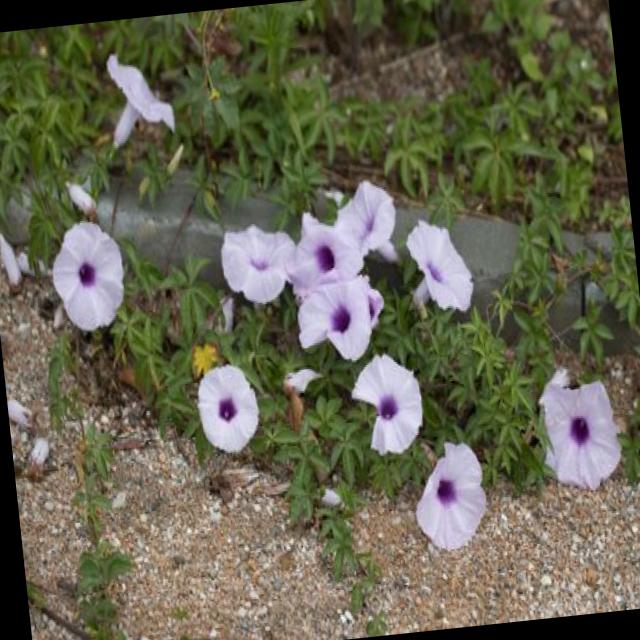ipomoea: (532, 369, 629, 498), (43, 212, 133, 340), (404, 434, 494, 558), (344, 346, 431, 464), (99, 42, 182, 156), (290, 271, 381, 372), (400, 210, 480, 322), (215, 215, 302, 314), (190, 356, 268, 462)
